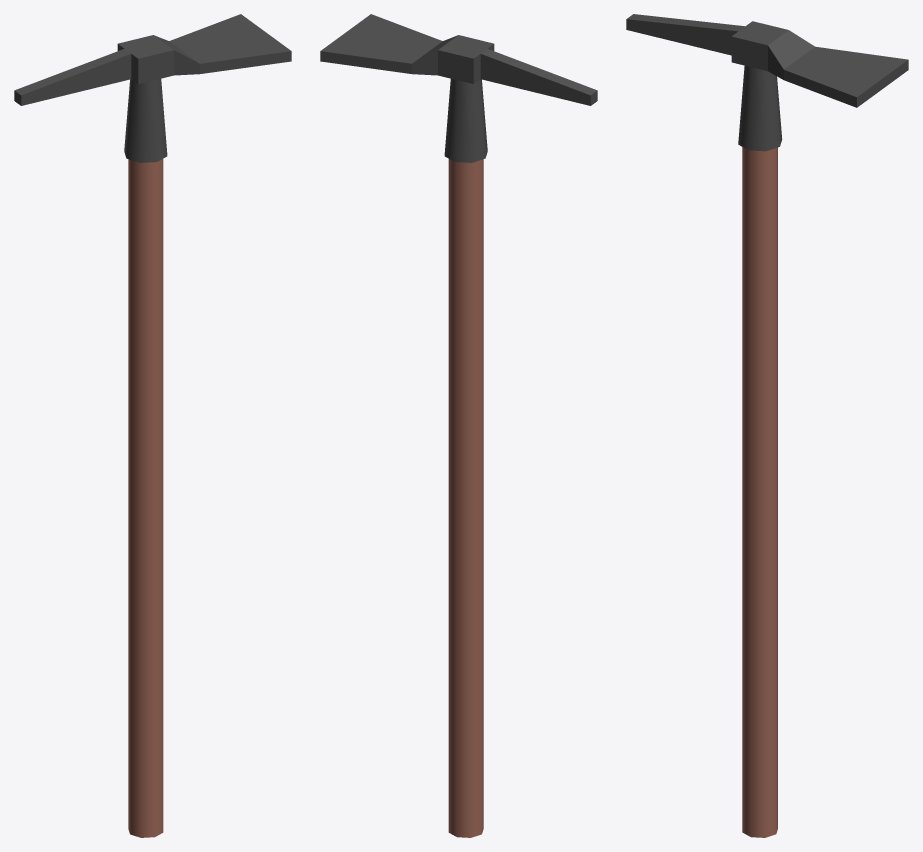
Rendered from Pickaxe.gltf.
3 renders of one model, left to right at view 1: azimuth 30°, elevation 25°; view 2: azimuth 150°, elevation 25°; view 3: azimuth 330°, elevation 25°, orthographic.
Parts seen in each view (by area): view 1: Pickaxe; view 2: Pickaxe; view 3: Pickaxe.
Boxes of the visible parts, x1=… form: Pickaxe: x1=14, y1=14, x2=291, y2=837; Pickaxe: x1=320, y1=14, x2=597, y2=837; Pickaxe: x1=626, y1=14, x2=908, y2=837.
Size of the model in its own units: 0.5269 by 1.59 by 0.1862.
